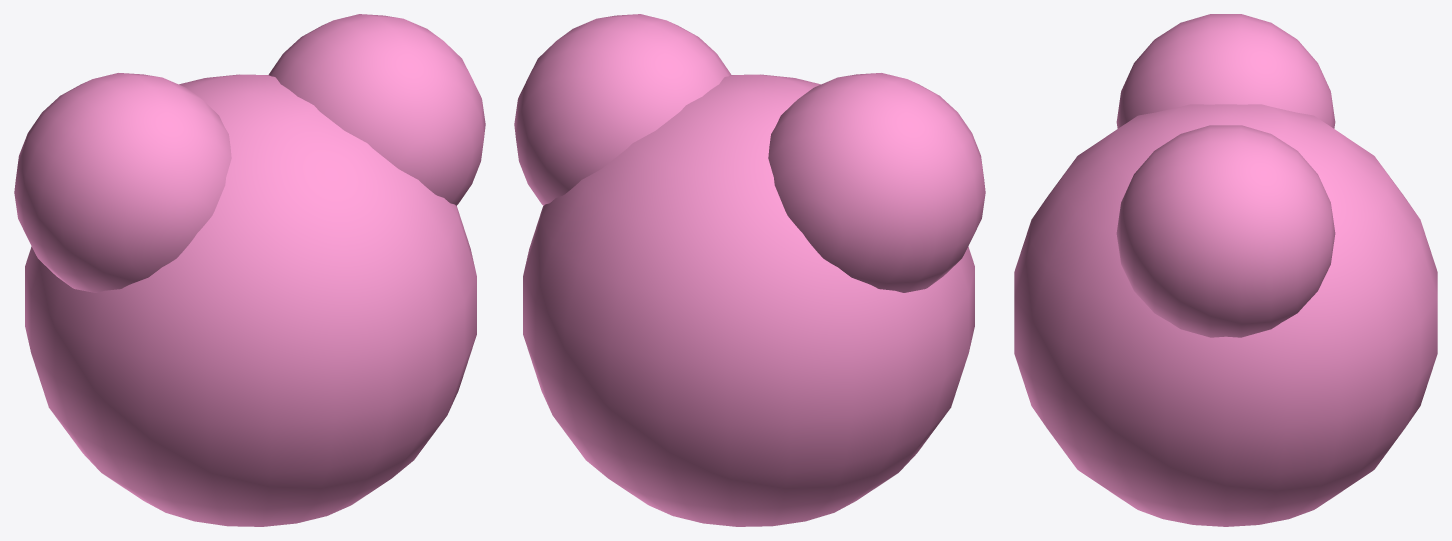
File: Head2.glb
3 views of the same model, side by side, from view 1: azimuth 30°, elevation 25°; view 2: azimuth 150°, elevation 25°; view 3: azimuth 270°, elevation 25° (orthographic). The views are drawn at different scales.
Visible parts, largest first — view 1: Head_Bear; view 2: Head_Bear; view 3: Head_Bear.
Part boxes in pixels (<box>): Head_Bear: <box>14,14,485,526</box>; Head_Bear: <box>514,14,985,526</box>; Head_Bear: <box>1014,14,1437,526</box>.
Size of the model in its own units: 275 by 270 by 243.
